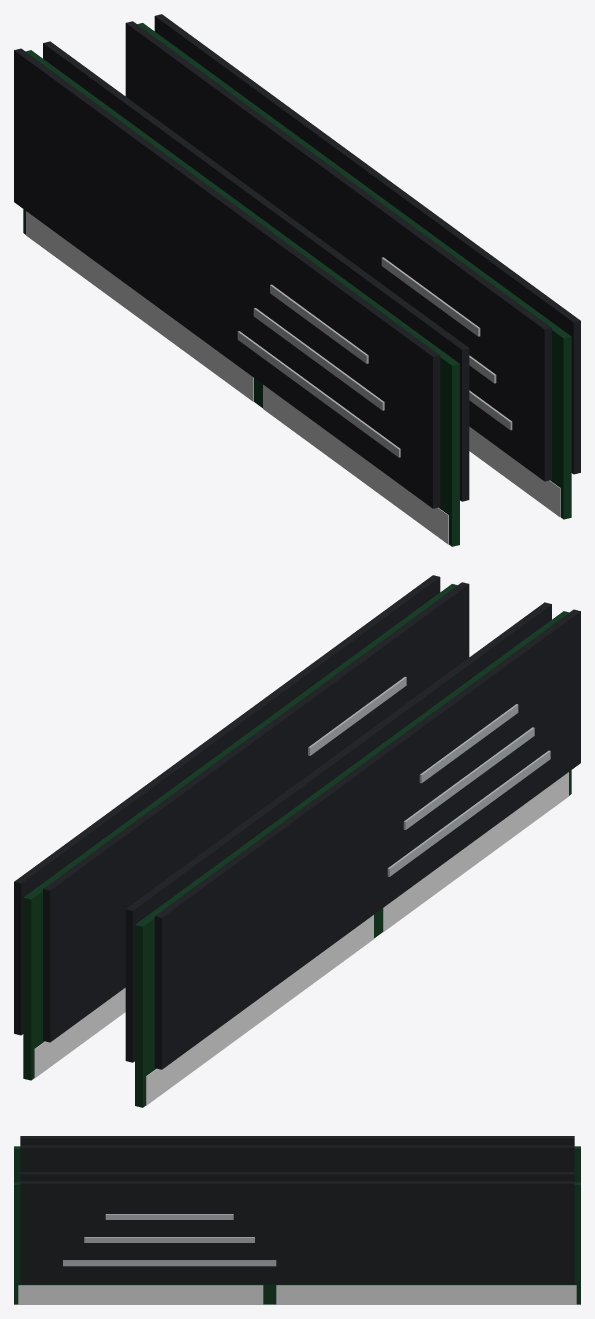
The model's file is hw_ram_ddr4_16gb.glb.
3 renders of one model, top to bottom at view 1: azimuth 30°, elevation 25°; view 2: azimuth 150°, elevation 25°; view 3: azimuth 270°, elevation 25°, orthographic. The views are drawn at different scales.
Visible parts, largest first — view 1: Stick_1, Body; view 2: Stick_1, Body; view 3: Body, Stick_1.
Part boxes in pixels (bbox=[...]): Stick_1: bbox=[14, 41, 469, 546]; Body: bbox=[125, 14, 580, 519]; Stick_1: bbox=[125, 602, 580, 1107]; Body: bbox=[14, 575, 469, 1080]; Body: bbox=[14, 1172, 580, 1304]; Stick_1: bbox=[14, 1136, 580, 1182].
Bounding box in the file's own units: 0.0272 × 0.0325 × 0.133.
